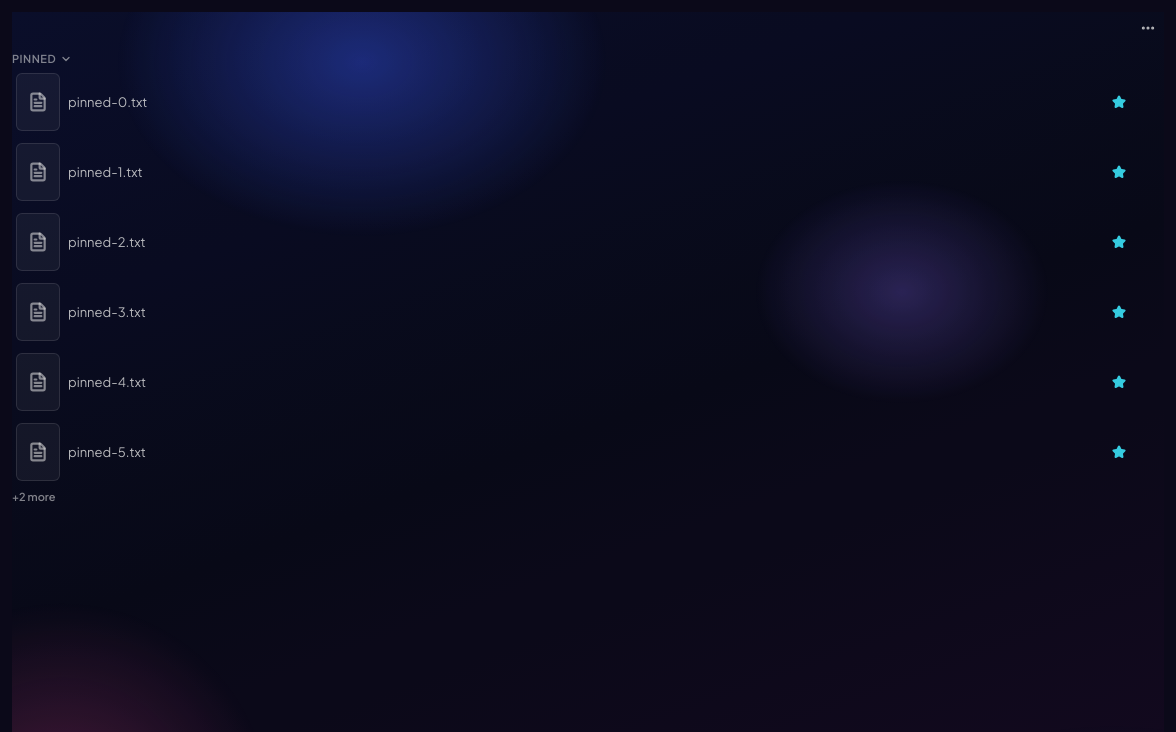
it: FilesWidget › expands pinned past six behind a toggle
The image size is (1176, 732).
Expected: the text "pinned-0.txt" is shown, [68,94,147,110]
Expected: the text "pinned-7.txt" is not shown
Click the button with aria-label "Show 2 more pinned files": (34, 494) [12,485,56,504]
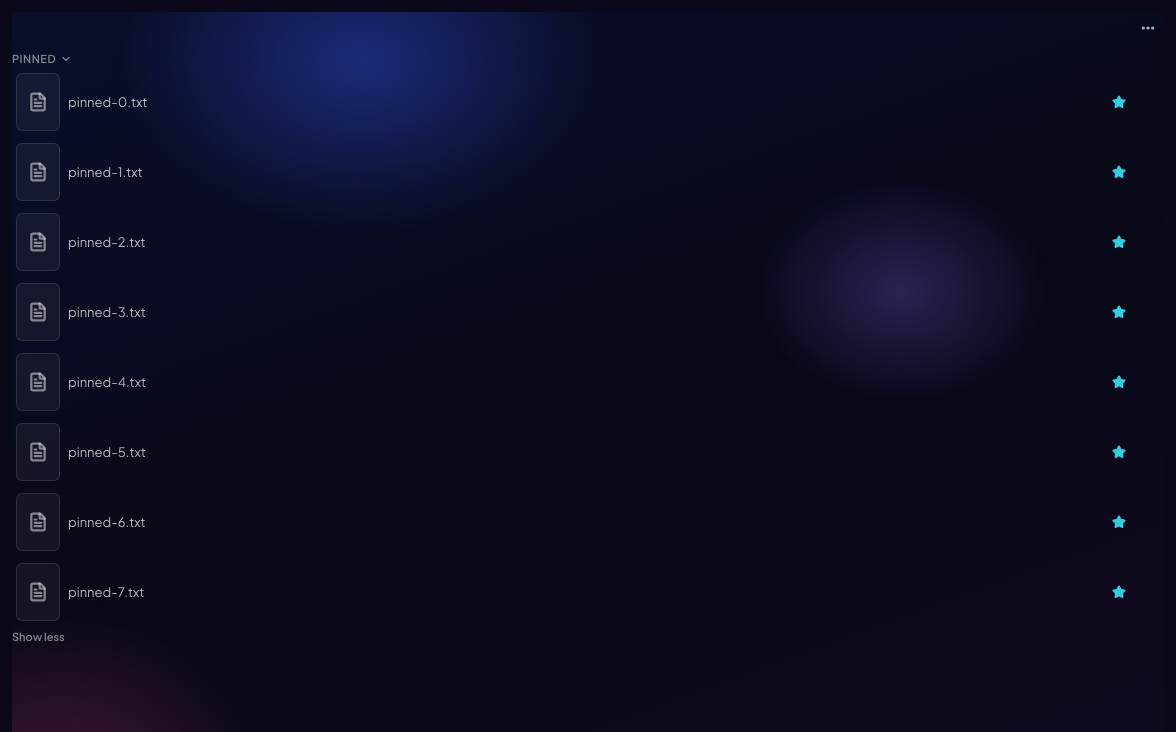
Expected: the text "pinned-7.txt" is shown, [68,584,144,600]
Click the button with aria-label "Show fewer pinned files": (38, 634) [12,625,65,644]
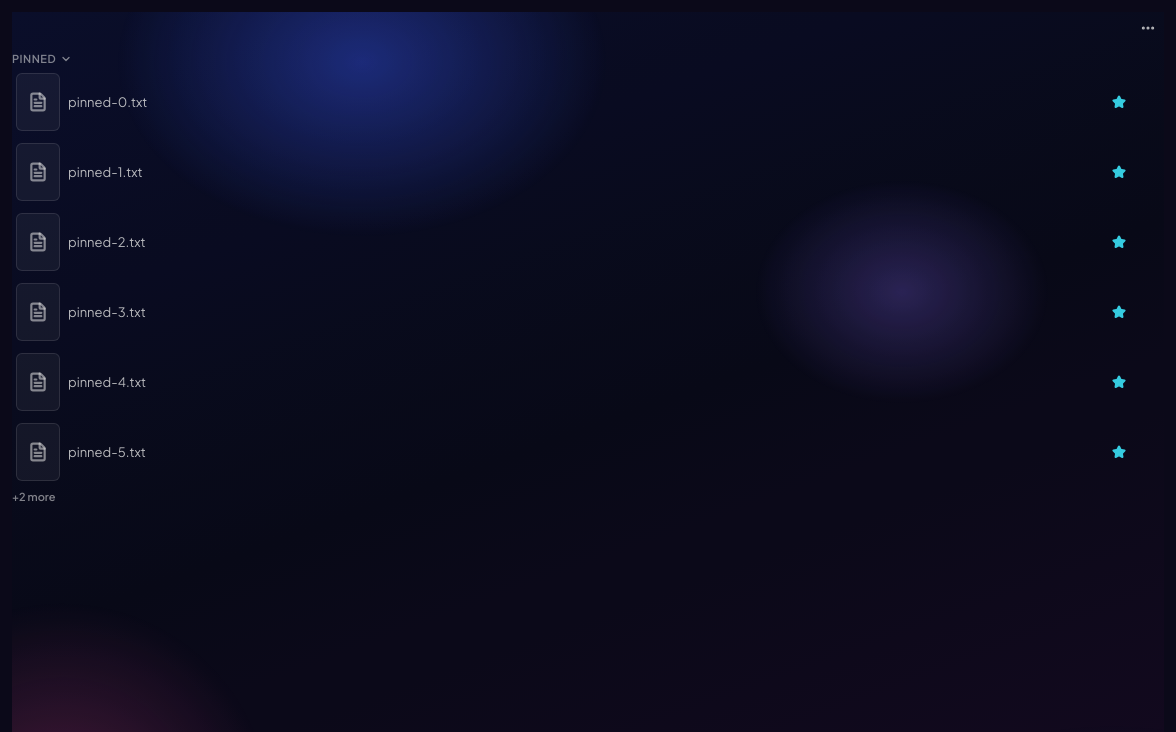
Expected: the text "pinned-7.txt" is gone
